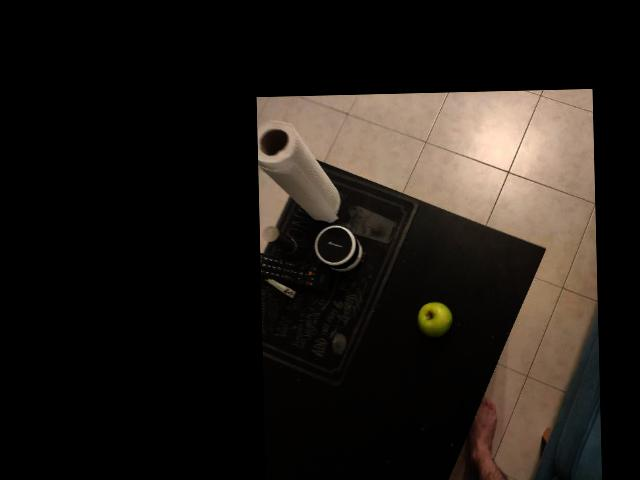apple: (465, 237, 509, 275)
